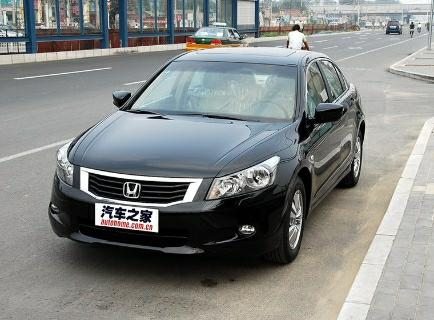car: (24, 39, 373, 271)
